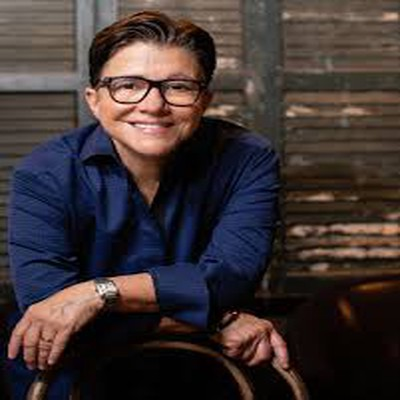eywear: (86, 44, 222, 126)
